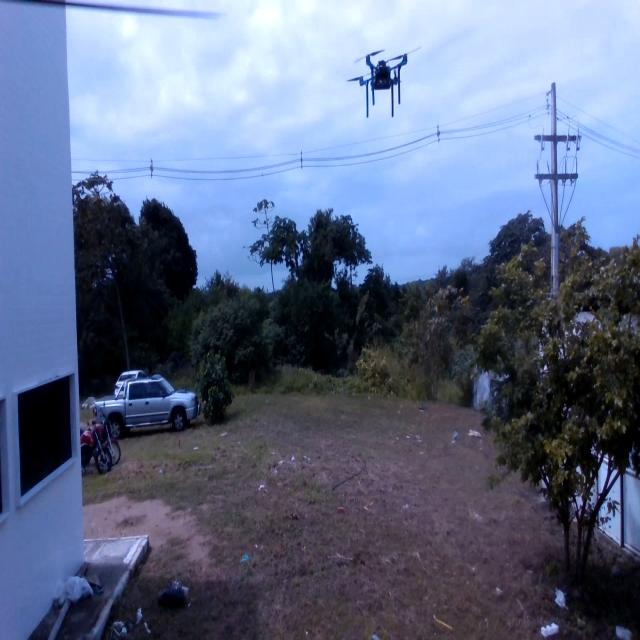-uav-: (339, 29, 427, 131)
